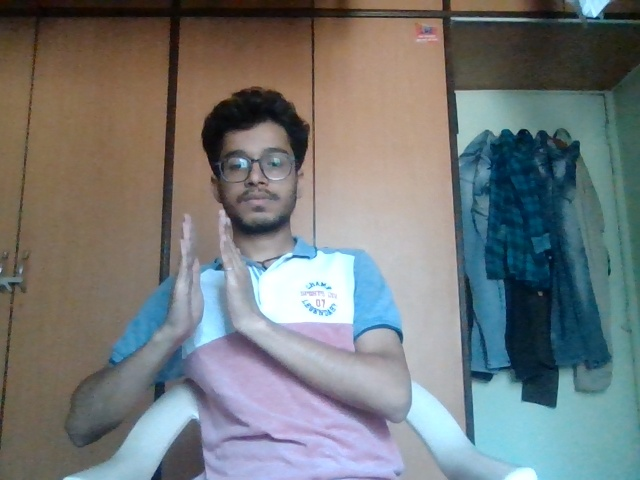morning: (142, 202, 308, 354)
